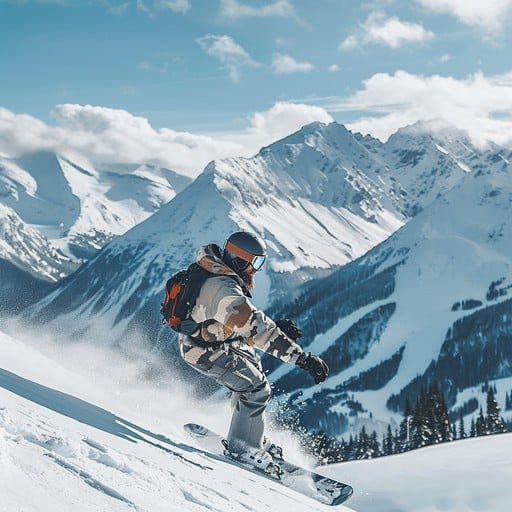snowboarder: (160, 231, 354, 506)
